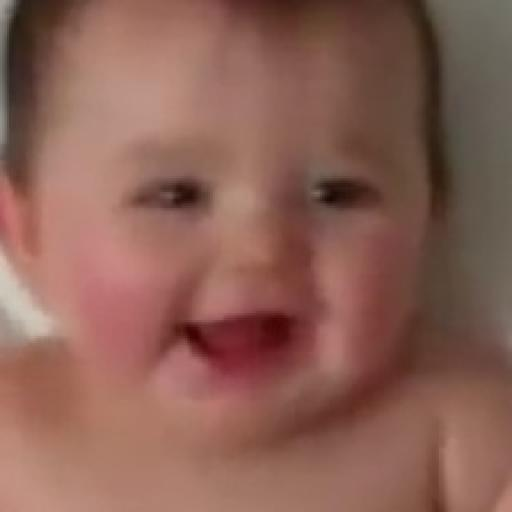Autism: (19, 0, 495, 512)
